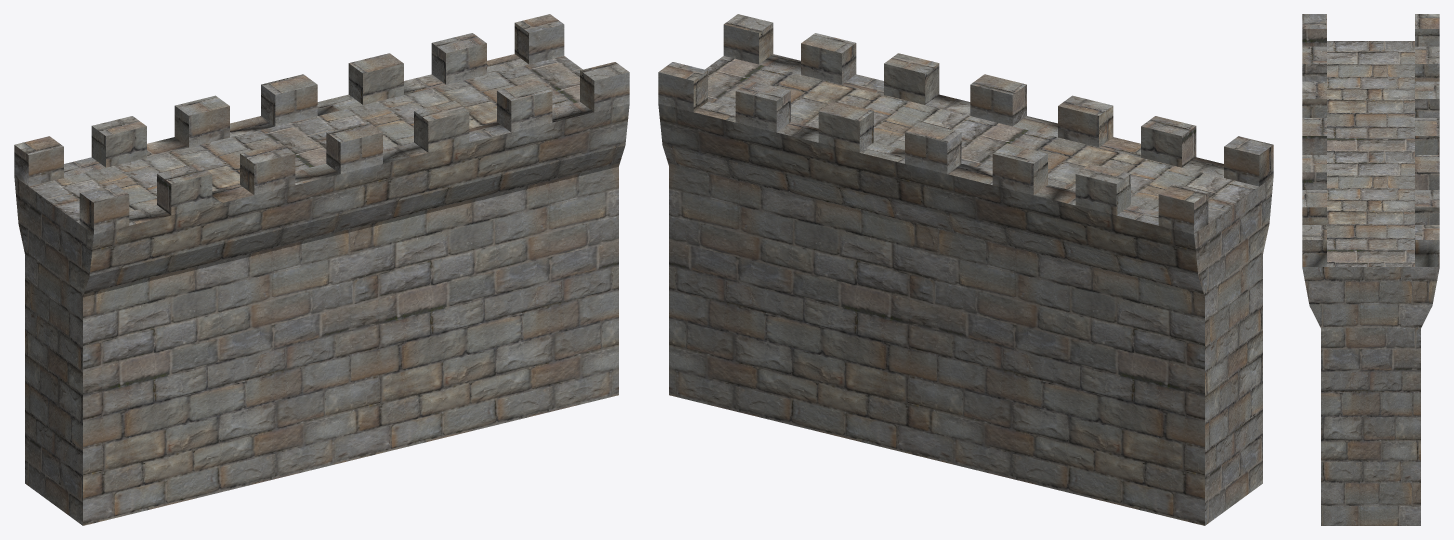
File: Muro_de_castillo.obj
The picture shows the model from 3 angles, left to right: view 1: azimuth 30°, elevation 25°; view 2: azimuth 150°, elevation 25°; view 3: azimuth 270°, elevation 25°; orthographic projection. The views are drawn at different scales.
Visible parts, largest first — view 1: pCube1_Untitled.001; view 2: pCube1_Untitled.001; view 3: pCube1_Untitled.001.
Boxes of the visible parts, x1=… form: pCube1_Untitled.001: x1=14, y1=14, x2=629, y2=525; pCube1_Untitled.001: x1=658, y1=14, x2=1273, y2=525; pCube1_Untitled.001: x1=1302, y1=14, x2=1439, y2=525.
Size of the model in its own units: 1.34 by 0.7884 by 0.3437.
1 material, 1 textured.
